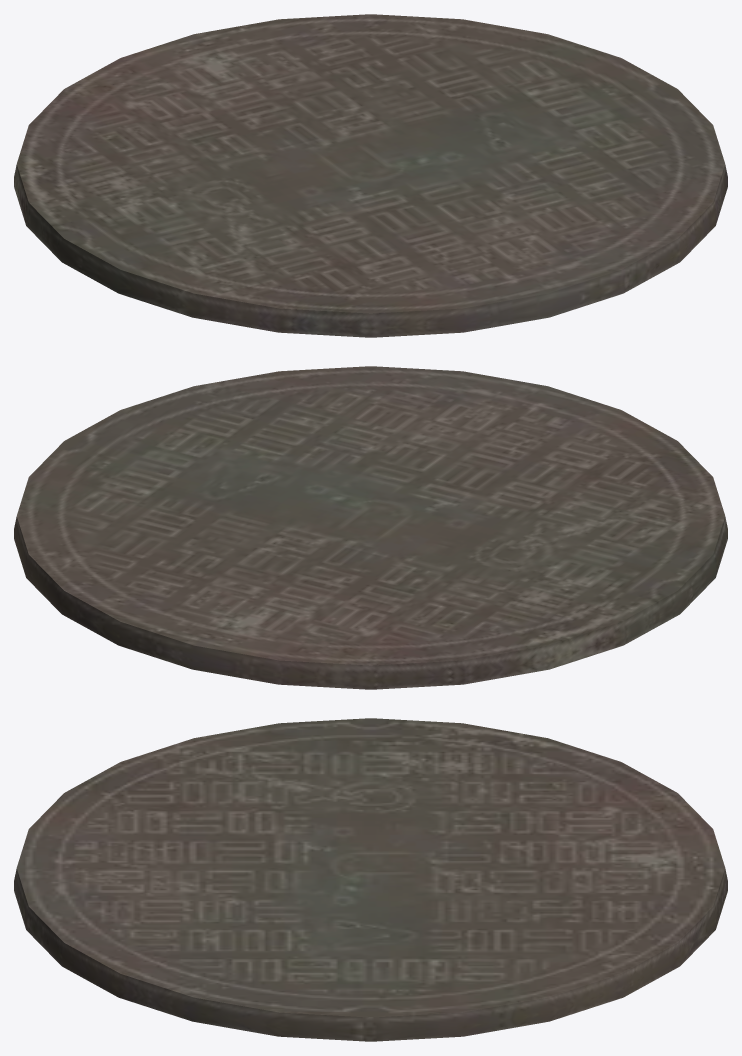
File: Prop_ManholeCover.glb
The picture shows the model from 3 angles, top to bottom: view 1: azimuth 30°, elevation 25°; view 2: azimuth 150°, elevation 25°; view 3: azimuth 270°, elevation 25°; orthographic projection.
Visible parts, largest first — view 1: Prop_ManholeCover; view 2: Prop_ManholeCover; view 3: Prop_ManholeCover.
Boxes of the visible parts, left/top/right/bottom form: Prop_ManholeCover: left=14, top=14, right=727, bottom=337; Prop_ManholeCover: left=14, top=366, right=727, bottom=689; Prop_ManholeCover: left=14, top=718, right=727, bottom=1041.
Size of the model in its own units: 0.9251 by 0.033 by 0.9251.
Materials: 1 (1 with a texture image).
